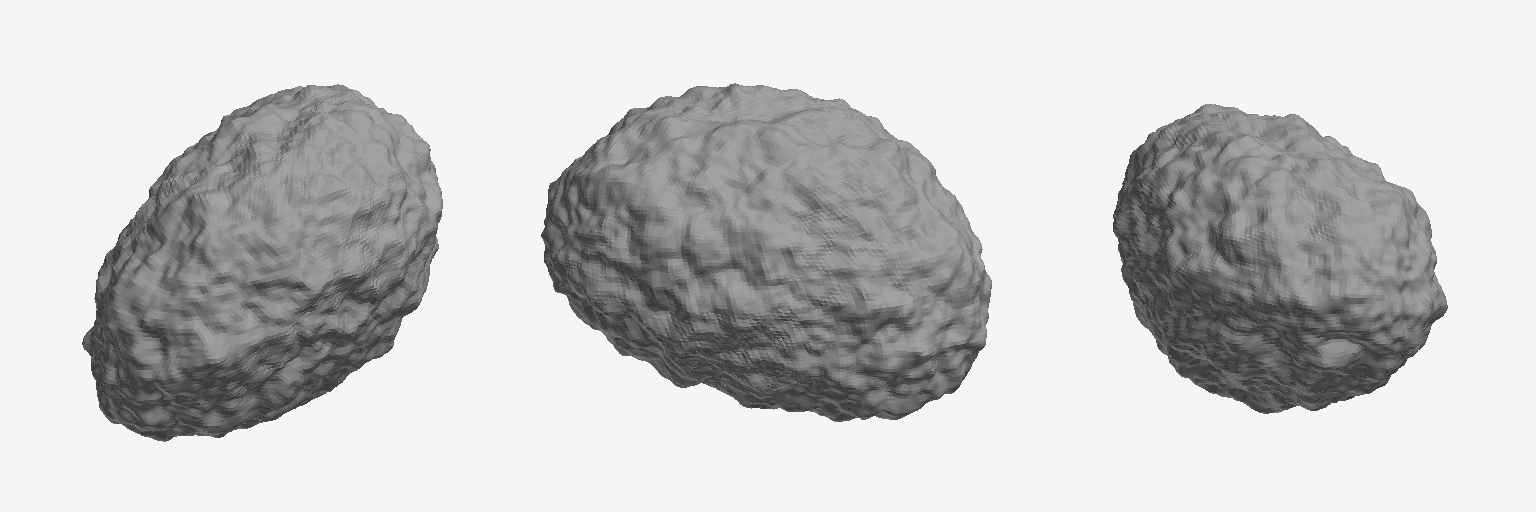
The model's file is Asteroid_5.obj.
3 renders of one model, left to right at view 1: azimuth 30°, elevation 25°; view 2: azimuth 150°, elevation 25°; view 3: azimuth 270°, elevation 25°, orthographic.
Visible parts, largest first — view 1: Cube; view 2: Cube; view 3: Cube.
Boxes of the visible parts, x1,y1,x2,y2 form: Cube: [82, 84, 442, 441]; Cube: [541, 83, 991, 421]; Cube: [1113, 104, 1447, 413].
Size of the model in its own units: 9.04 by 6.7 by 7.06.